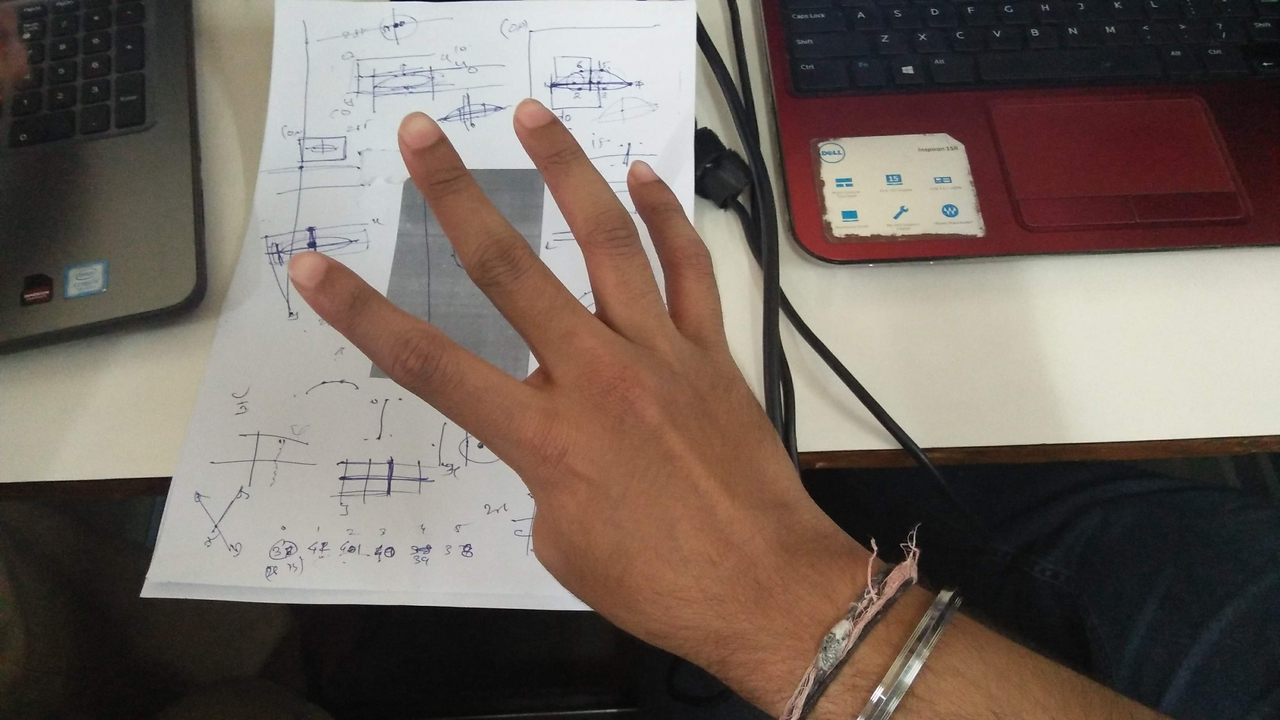fingertip: (280, 245, 334, 305), (390, 108, 448, 156), (504, 94, 562, 138), (622, 154, 676, 196)
